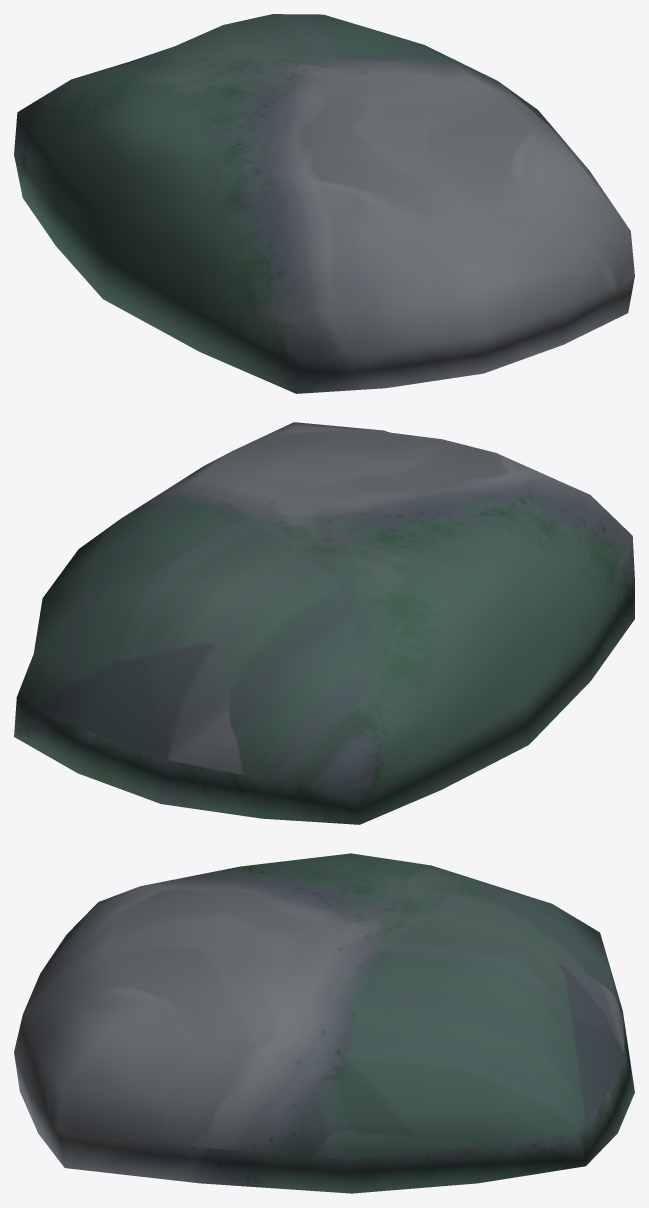
File: R4YL_PROP_rock.FBX
3 views of the same model, one above another, from view 1: azimuth 30°, elevation 25°; view 2: azimuth 150°, elevation 25°; view 3: azimuth 270°, elevation 25° (orthographic). The views are drawn at different scales.
Visible parts, largest first — view 1: rocks; view 2: rocks; view 3: rocks.
Boxes of the visible parts, box(x1,y1,x2,y2) form: rocks: box(14, 14, 634, 393); rocks: box(14, 422, 634, 824); rocks: box(14, 853, 634, 1193).
Size of the model in its own units: 15.62 by 6.01 by 19.82.
